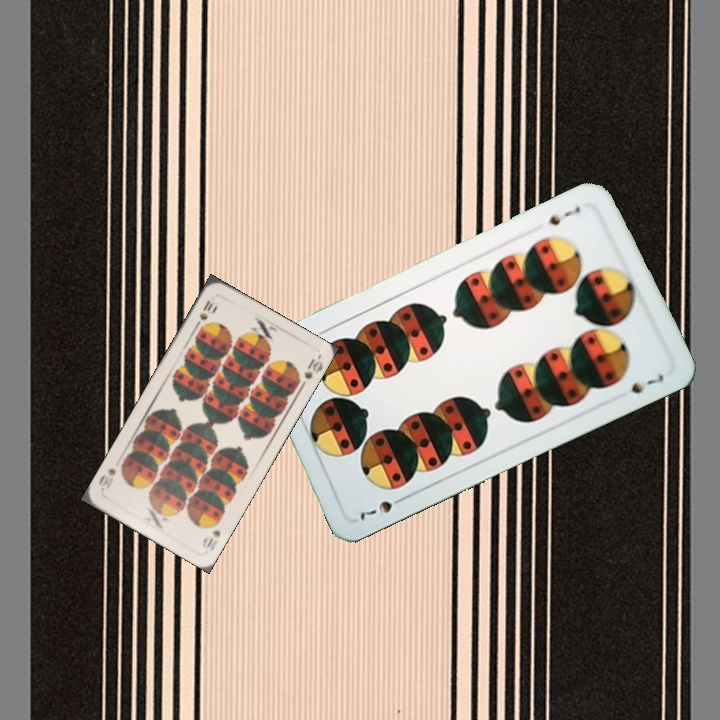S10: (191, 296, 219, 330), (198, 515, 223, 553)
S7: (355, 491, 409, 524), (545, 202, 583, 228)
